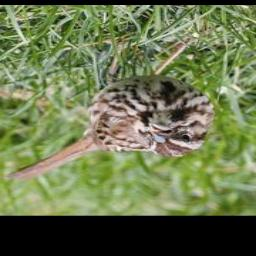Sparrow: (3, 48, 218, 183)
